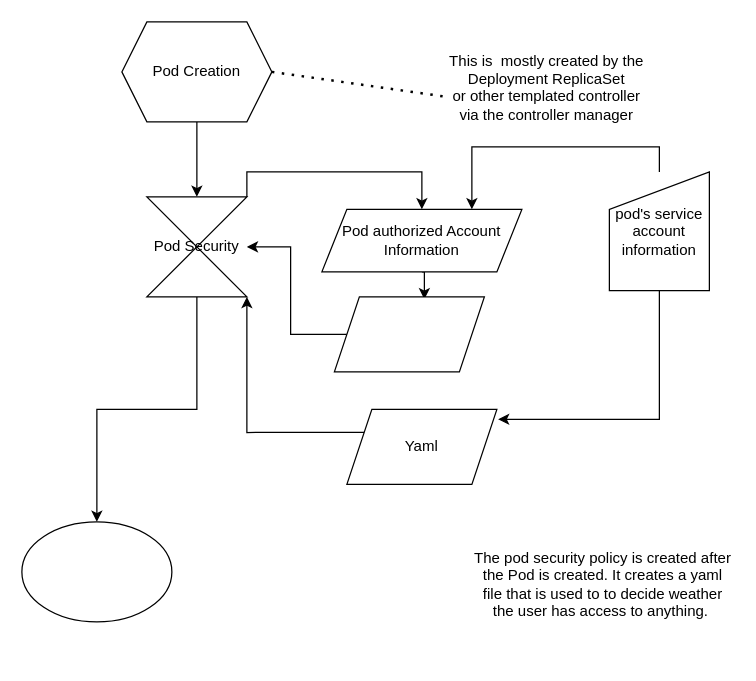
This 756x681 diagram has some shape labels left out. Here are the shapes that lost their labels. From the top down, the box of each, then its label:
(333, 296, 484, 372): RBAC
(21, 521, 172, 622): pod finalized/ Policy finalized
